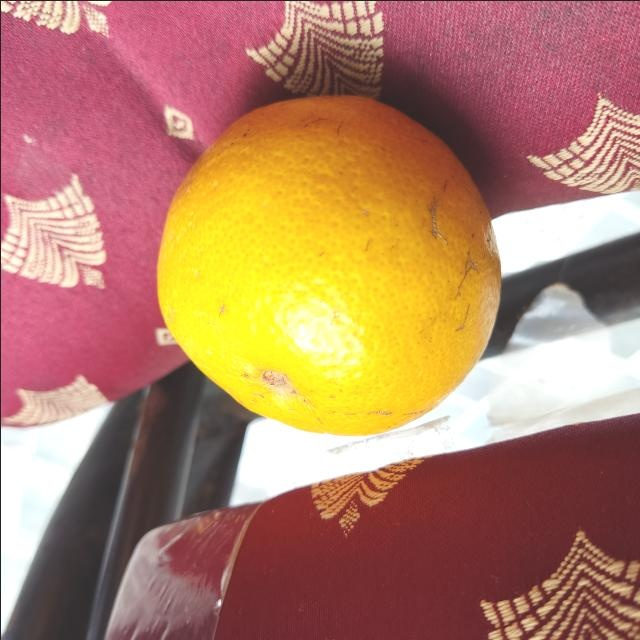agrume: (157, 93, 503, 435)
